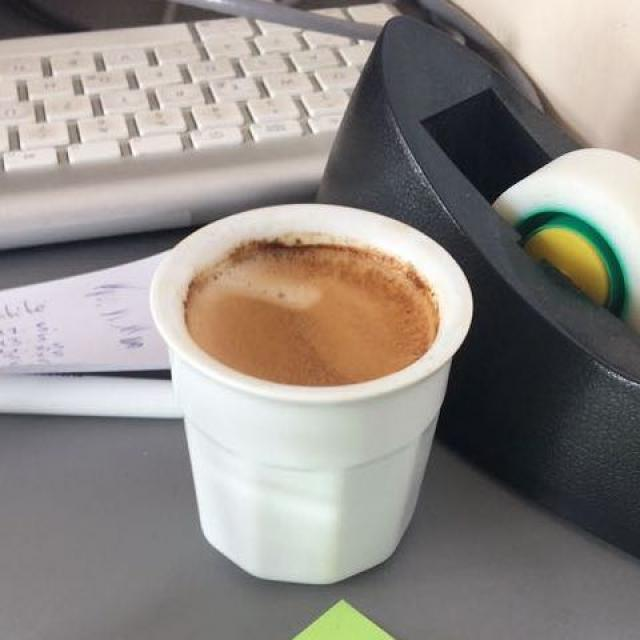coffee-with-caffeine: (189, 238, 439, 383)
